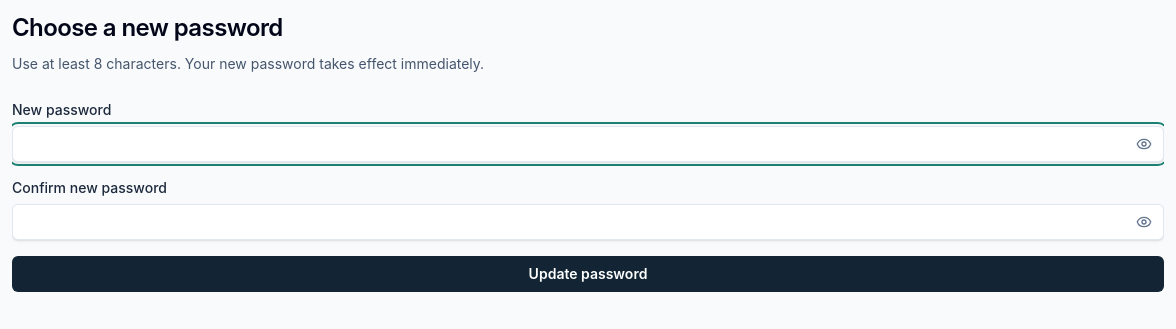
Test case: login and recovery › requires matching passwords during a valid recovery session
This screenshot has width=1176, height=329.
Step 1. Type "new-password" into the password field labelled "New password" → (588, 144), box [12,126,1164,162]
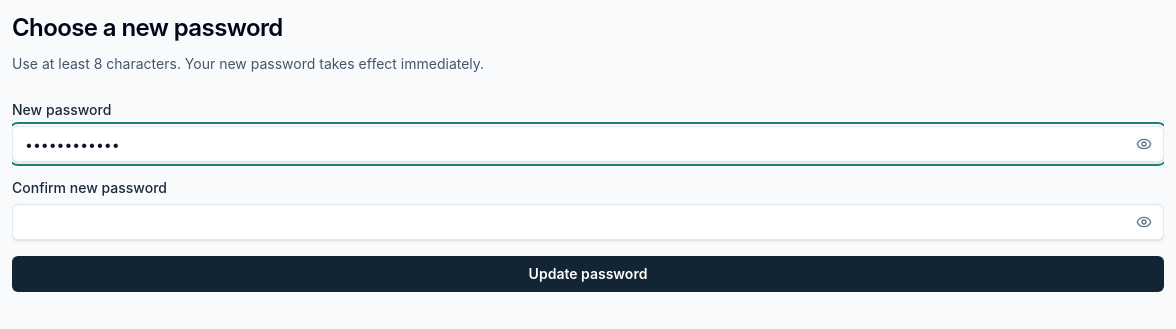
Step 2. Type "not-the-same" into the password field labelled "Confirm new password" → (588, 222), box [12,204,1164,240]
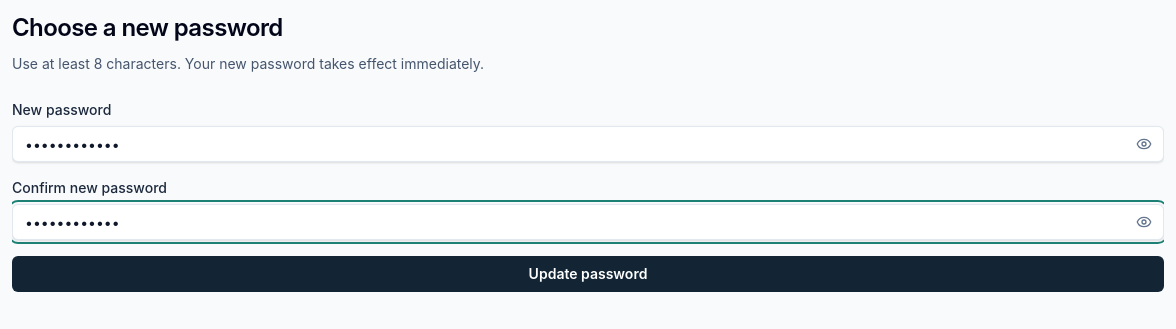
Step 3. Click the button "Update password" → (588, 274), box [12,256,1164,292]
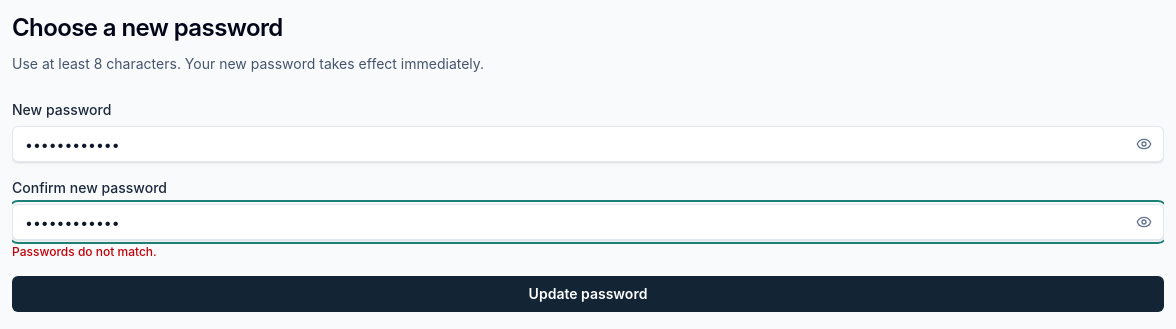
Expected: the text "Passwords do not match." is shown, [12,244,157,259]
